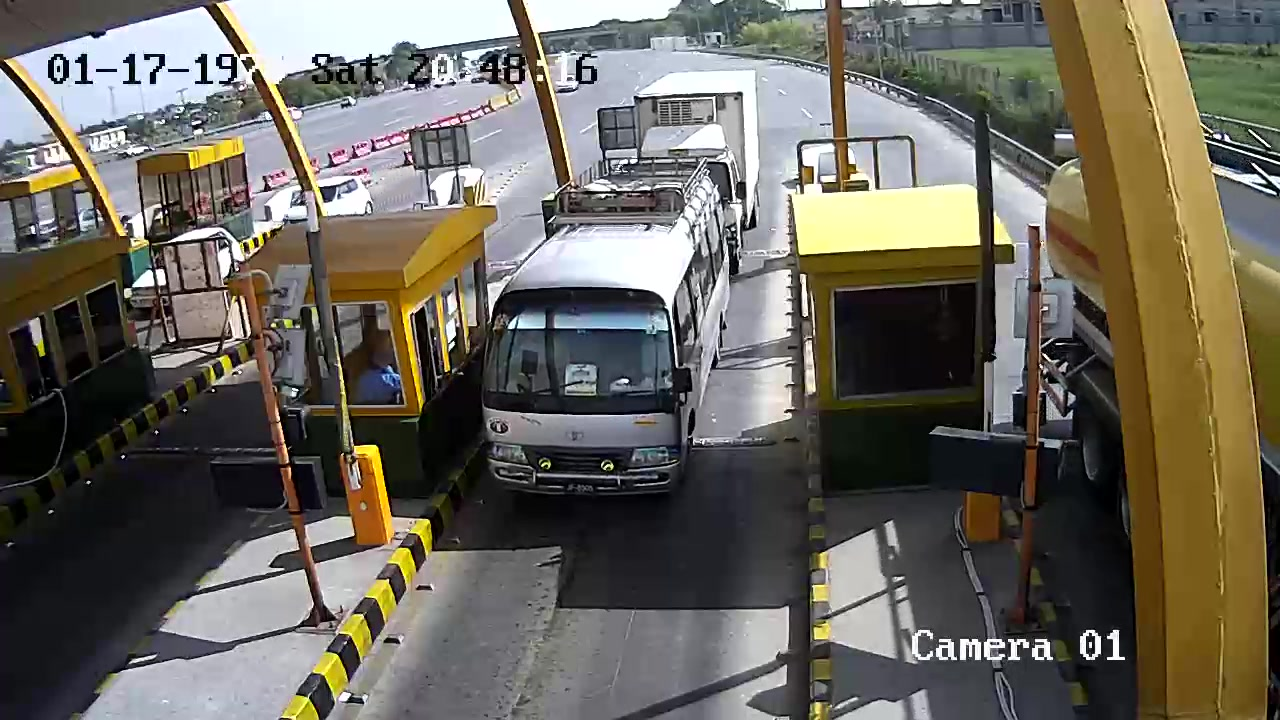F3: (478, 155, 732, 507)
